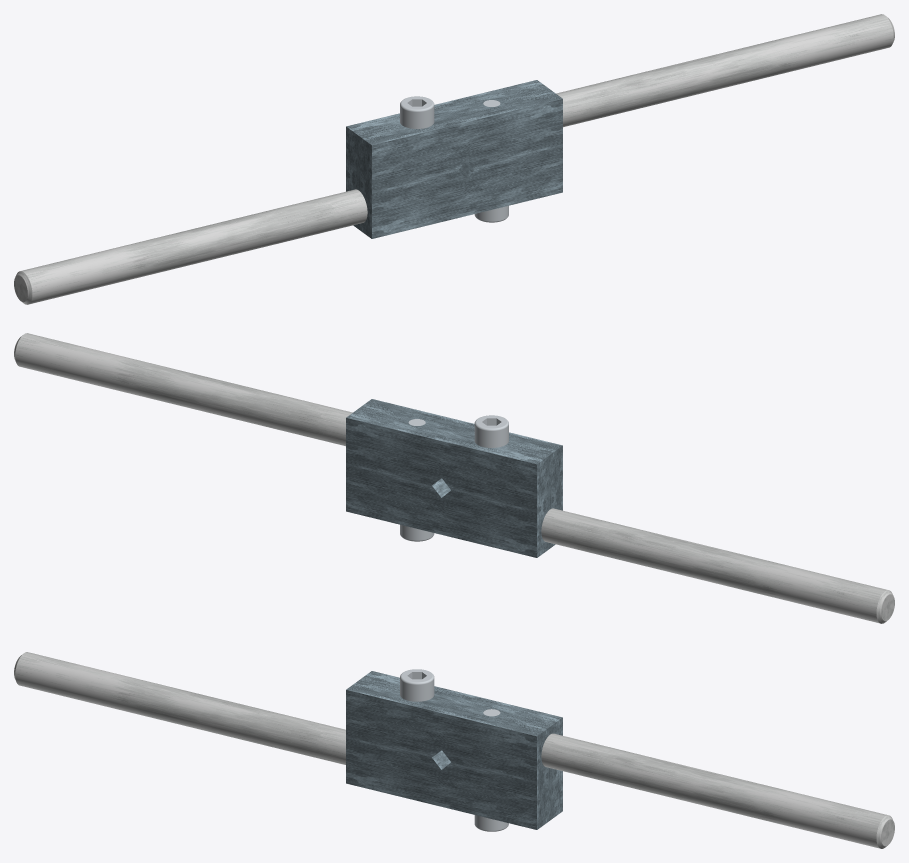
Rendered from Tap Wrench Assembly.gltf.
The picture shows the model from 3 angles, top to bottom: view 1: azimuth 30°, elevation 25°; view 2: azimuth 150°, elevation 25°; view 3: azimuth 330°, elevation 25°; orthographic projection.
Parts seen in each view (by area): view 1: mesh48_mesh_4 (×2), mesh0_mesh_10 (×2), mesh0_mesh_13, mesh48_mesh_3 (×2), mesh0_mesh_12, mesh0_mesh_4; view 2: mesh48_mesh_3 (×2), mesh0_mesh_11 (×2), mesh0_mesh_13, mesh48_mesh_4 (×2), mesh0_mesh_12, mesh0_mesh_4; view 3: mesh48_mesh_4 (×2), mesh0_mesh_10 (×2), mesh0_mesh_13, mesh48_mesh_3 (×2), mesh0_mesh_12, mesh0_mesh_4, mesh17_mesh_13.
Boxes of the visible parts, box(x1,y1,x2,y2) form: mesh48_mesh_4 (×2): box(24, 15, 893, 304); mesh0_mesh_10 (×2): box(372, 99, 562, 238); mesh0_mesh_13: box(346, 80, 562, 145); mesh48_mesh_3 (×2): box(20, 14, 884, 272); mesh0_mesh_12: box(346, 126, 371, 191); mesh0_mesh_4: box(346, 173, 371, 238); mesh48_mesh_3 (×2): box(15, 334, 884, 623); mesh0_mesh_11 (×2): box(346, 418, 536, 557); mesh0_mesh_13: box(346, 399, 562, 464); mesh48_mesh_4 (×2): box(24, 333, 888, 591); mesh0_mesh_12: box(537, 445, 562, 510); mesh0_mesh_4: box(537, 492, 562, 557); mesh48_mesh_4 (×2): box(15, 653, 884, 848); mesh0_mesh_10 (×2): box(346, 690, 536, 829); mesh0_mesh_13: box(346, 671, 562, 736); mesh48_mesh_3 (×2): box(24, 652, 887, 816); mesh0_mesh_12: box(537, 769, 562, 829); mesh0_mesh_4: box(537, 717, 562, 782); mesh17_mesh_13: box(400, 679, 431, 701).
Bounding box in the file's own units: 0.2904 × 0.042 × 0.015.
Materials: 3 (2 with a texture image).
